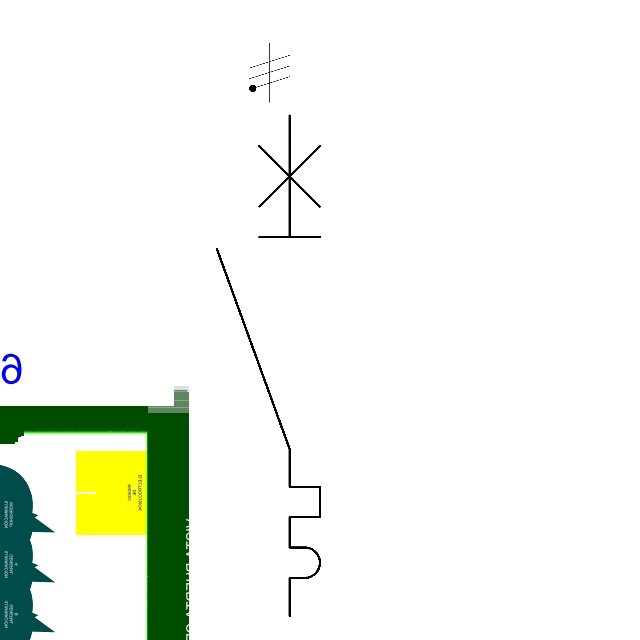interruptor_termomagnetico: (204, 102, 333, 628)
